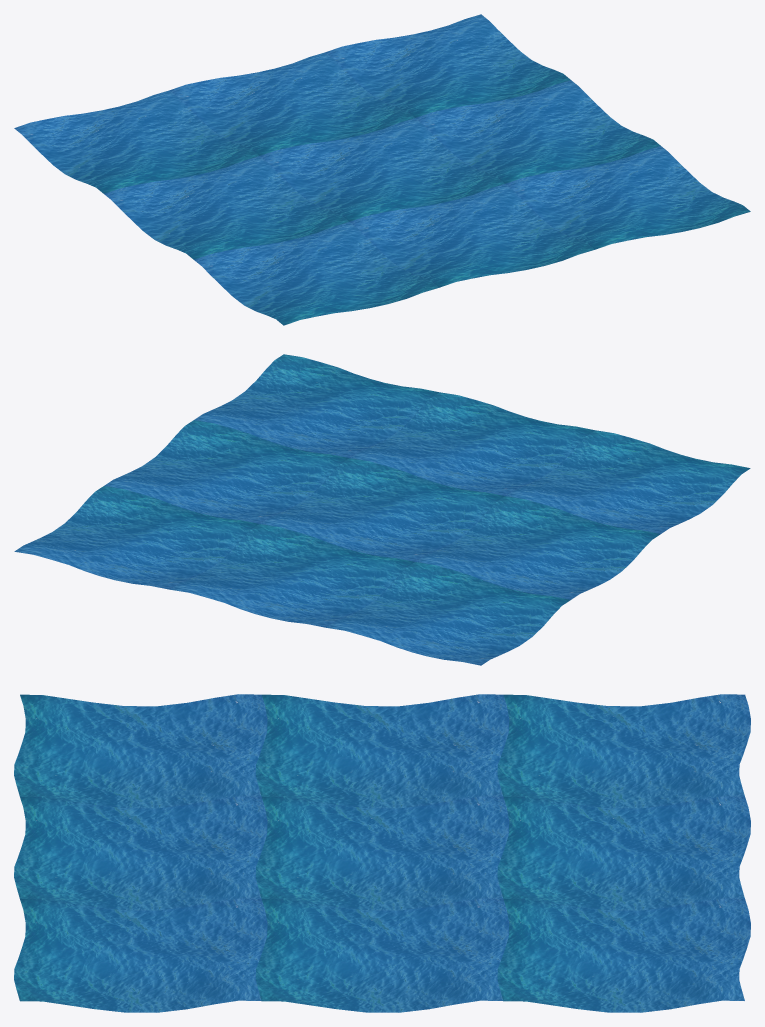
Rendered from ocean_000111.obj.
3 views of the same model, one above another, from view 1: azimuth 30°, elevation 25°; view 2: azimuth 150°, elevation 25°; view 3: azimuth 270°, elevation 25° (orthographic). The views are drawn at different scales.
Visible parts, largest first — view 1: Ocean_Plan.001; view 2: Ocean_Plan.001; view 3: Ocean_Plan.001.
Part boxes in pixels (box(x1,y1,x2,y2)): Ocean_Plan.001: box(14, 14, 750, 325); Ocean_Plan.001: box(14, 354, 750, 665); Ocean_Plan.001: box(14, 694, 750, 1012).
Size of the model in its own units: 109285 by 2458 by 110737.
Materials: 1 (1 with a texture image).
